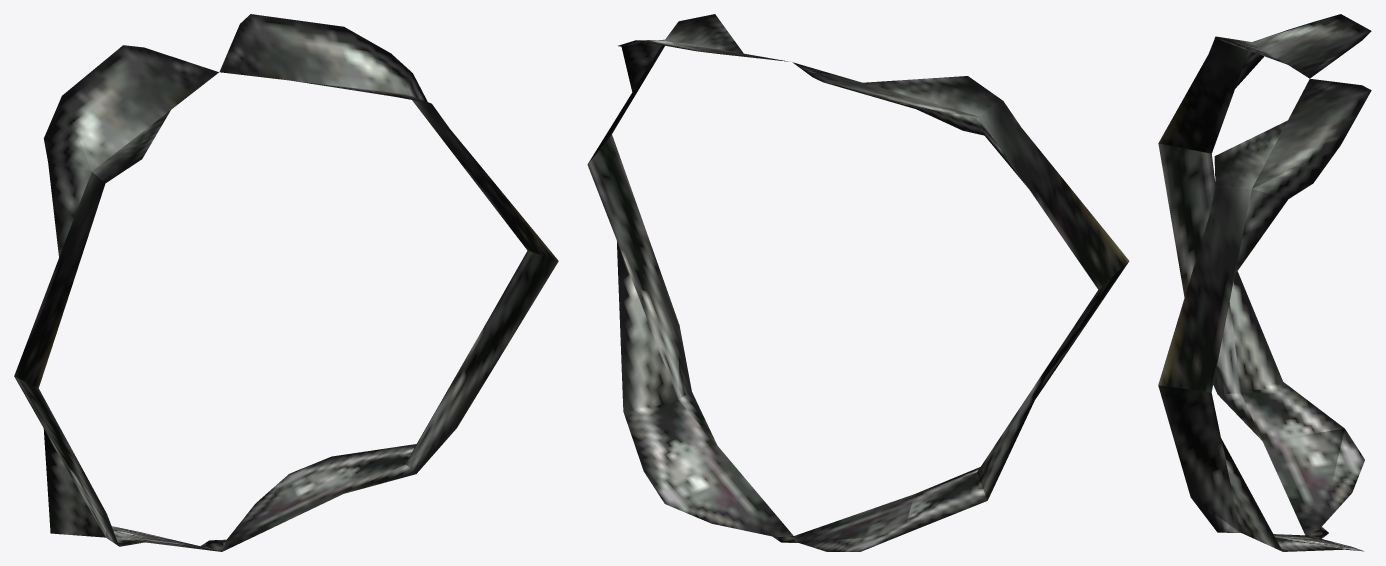
3 renders of one model, left to right at view 1: azimuth 30°, elevation 25°; view 2: azimuth 150°, elevation 25°; view 3: azimuth 270°, elevation 25°, orthographic. The views are drawn at different scales.
Parts seen in each view (by area): view 1: zm_Paladin; view 2: zm_Paladin; view 3: zm_Paladin.
Part boxes in pixels (x1,y1,x2,y2): zm_Paladin: [14, 14, 558, 551]; zm_Paladin: [587, 14, 1129, 551]; zm_Paladin: [1158, 14, 1371, 551].
Bounding box in the file's own units: 26.93 × 24.59 × 10.03.
